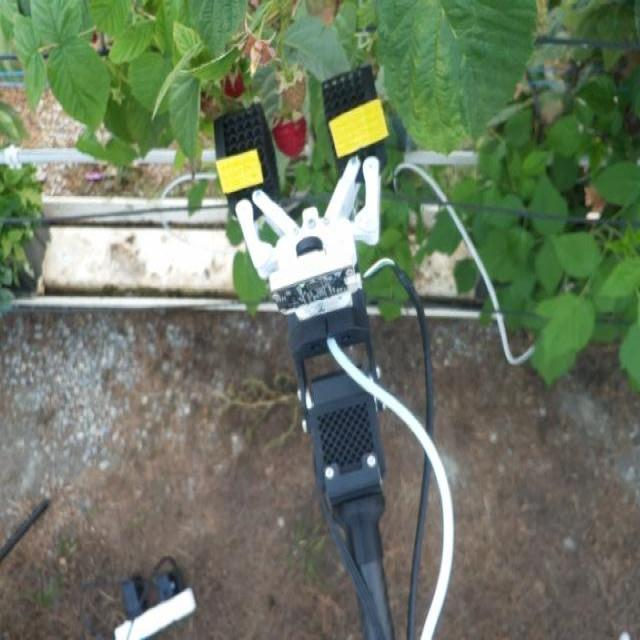Riped berries: (270, 108, 309, 159), (220, 64, 250, 100)
